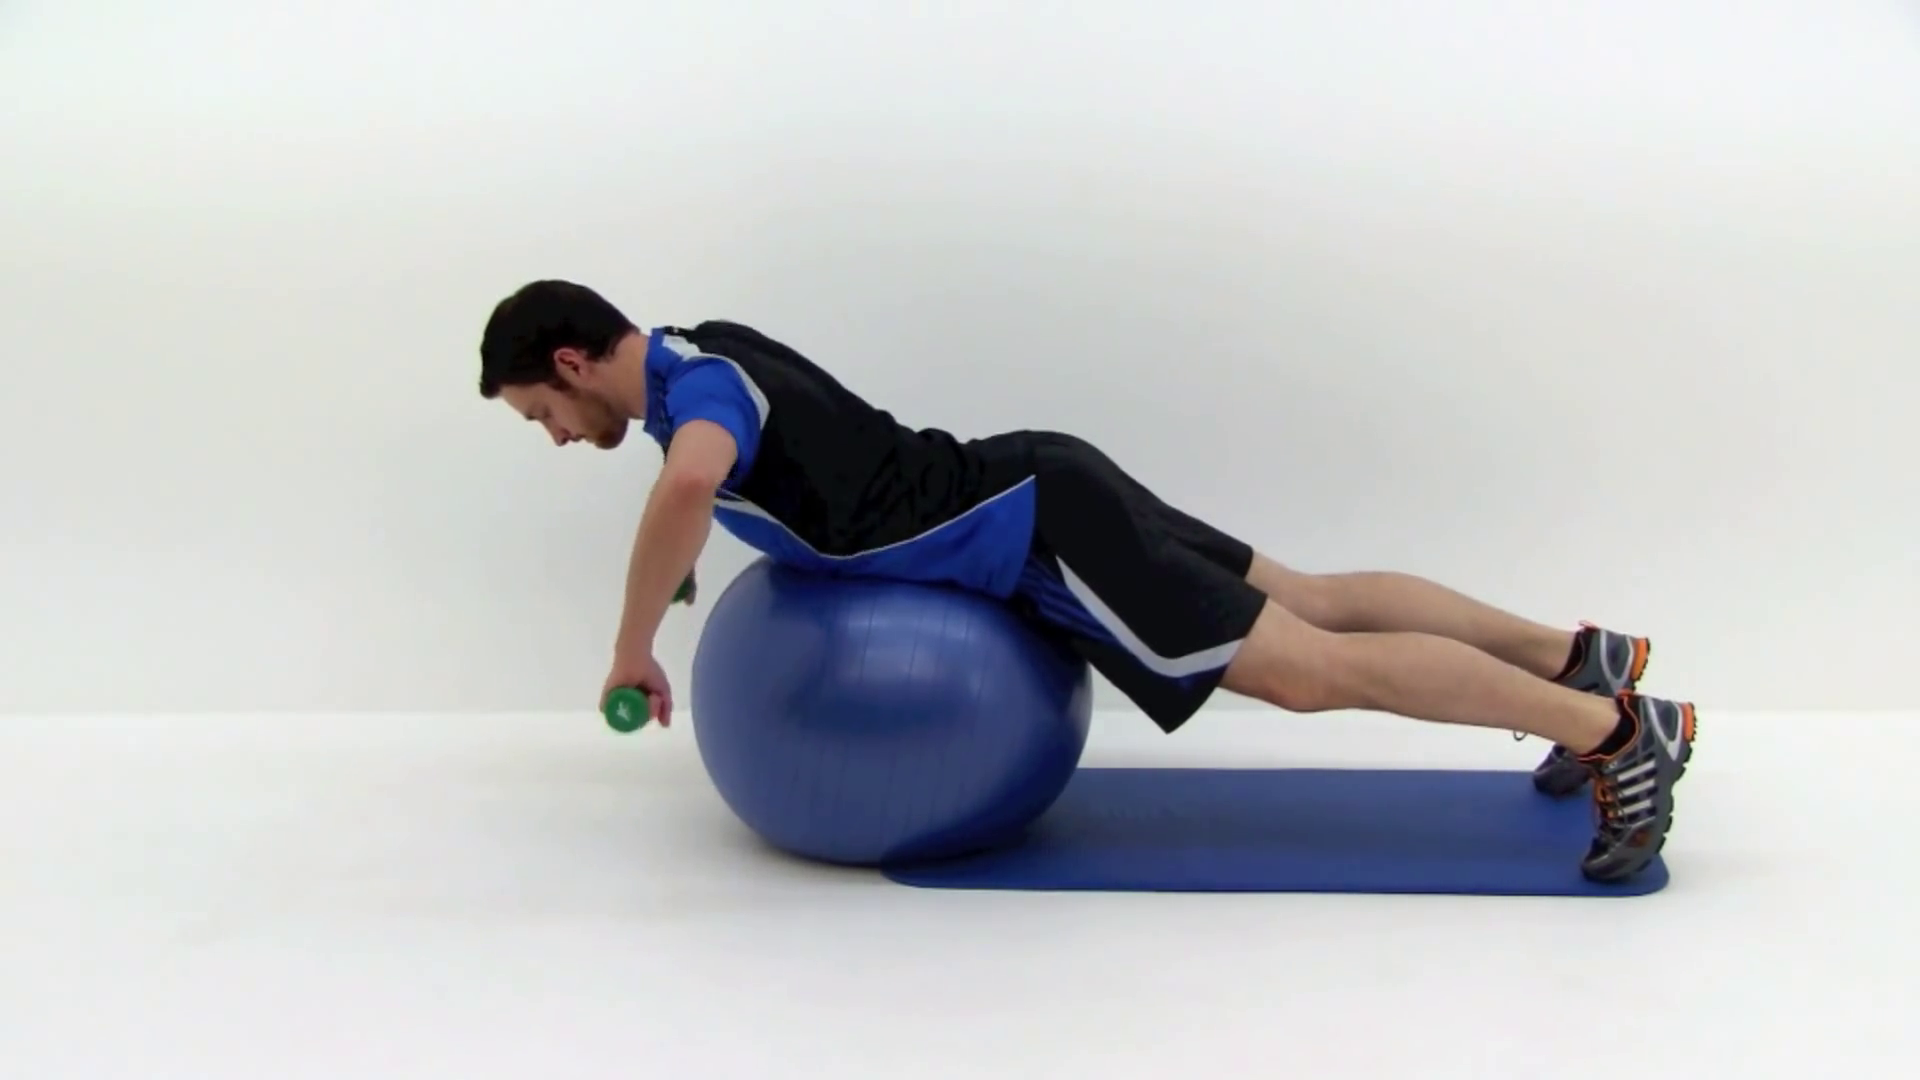yogaball: (676, 556, 1114, 876)
